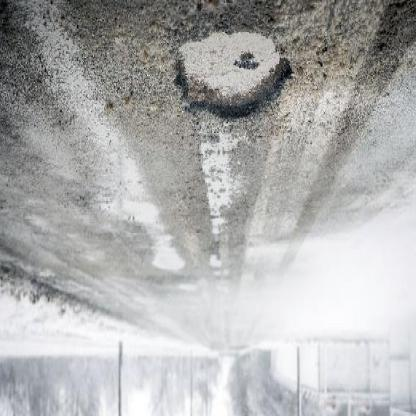pothole: (172, 30, 297, 129)
